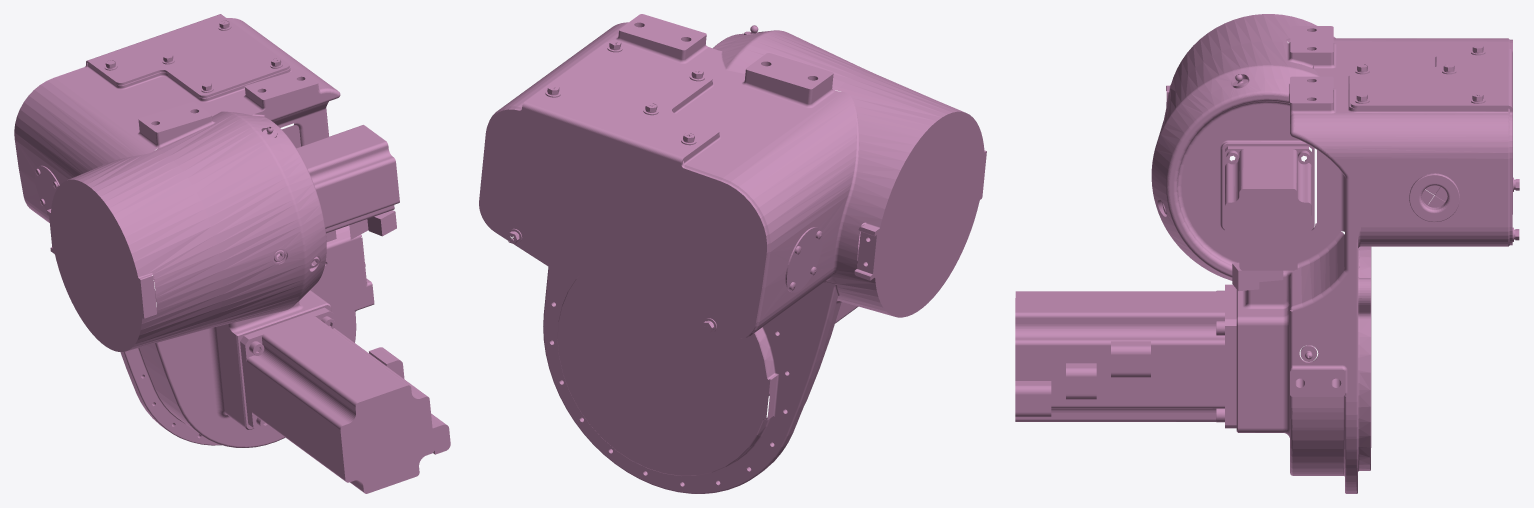
The model's file is case-02_lib00002.glb.
The picture shows the model from 3 angles, left to right: view 1: azimuth 30°, elevation 25°; view 2: azimuth 150°, elevation 25°; view 3: azimuth 270°, elevation 25°; orthographic projection. The views are drawn at different scales.
Visible parts, largest first — view 1: lib00002; view 2: lib00002; view 3: lib00002.
Boxes of the visible parts, x1=… form: lib00002: x1=14, y1=14, x2=450, y2=493; lib00002: x1=479, y1=14, x2=986, y2=493; lib00002: x1=1015, y1=14, x2=1519, y2=493.
Size of the model in its own units: 59.04 by 70 by 78.
